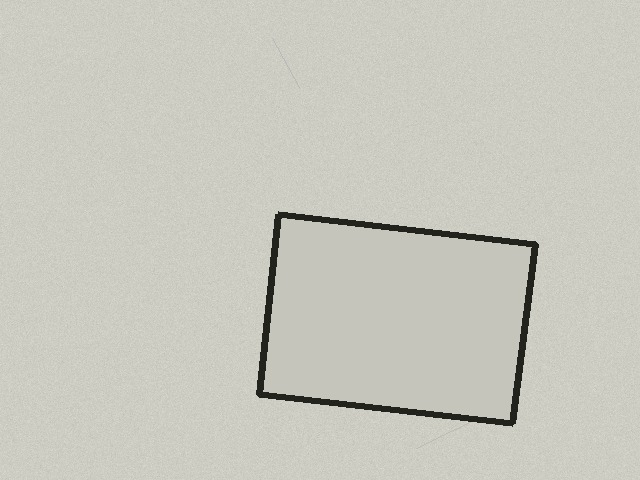parking_area: (259, 214, 535, 423)
